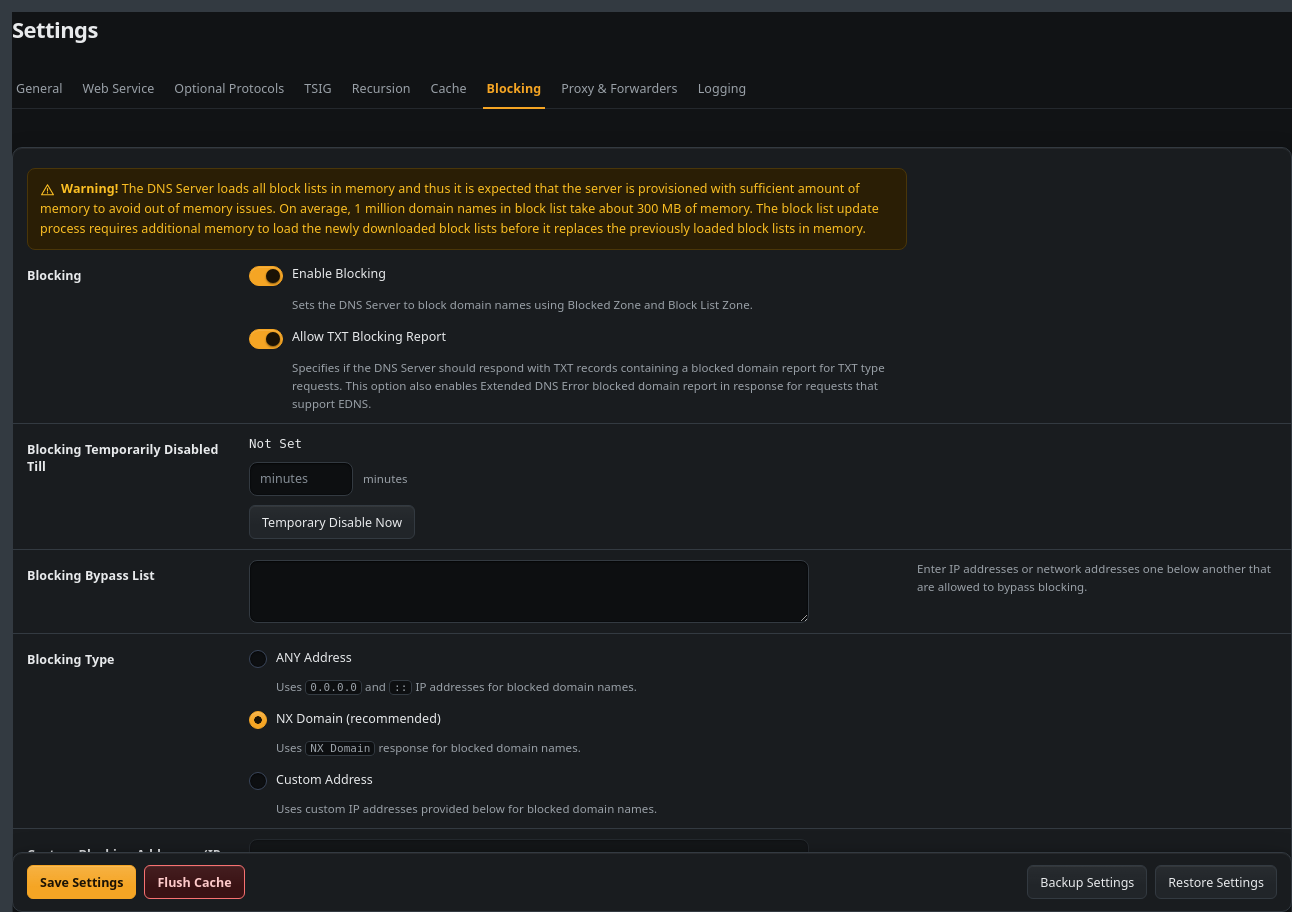
Test case: Settings: Blocking › switching off "Enable Blocking" switches off the rest of the sub-tab
The width and height of the screenshot is (1292, 912).
Expected: the button "Save Settings" is shown, [27, 865, 136, 899]
Expected: the checkbox labelled "Allow TXT Blocking Report" is enabled, [249, 329, 283, 349]
Click the checkbox labelled "Enable Blocking" at (266, 276), box [249, 266, 283, 286]
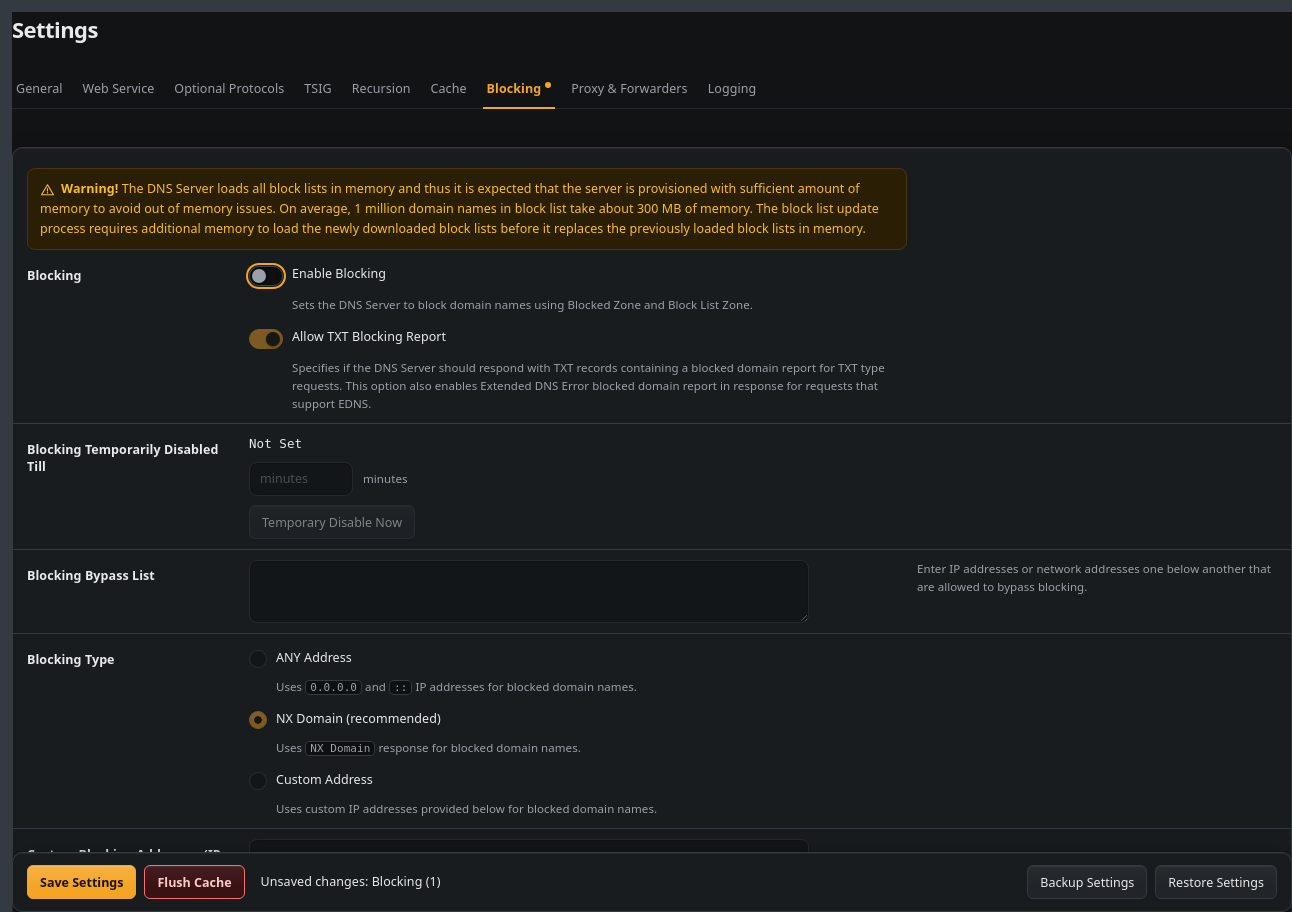
Expected: the text box labelled "Blocking Bypass List" is disabled, [249, 560, 809, 623]
Expected: the checkbox labelled "Allow TXT Blocking Report" is disabled, [249, 329, 283, 349]
Expected: the button "Temporary Disable Now" is disabled, [249, 505, 415, 539]
